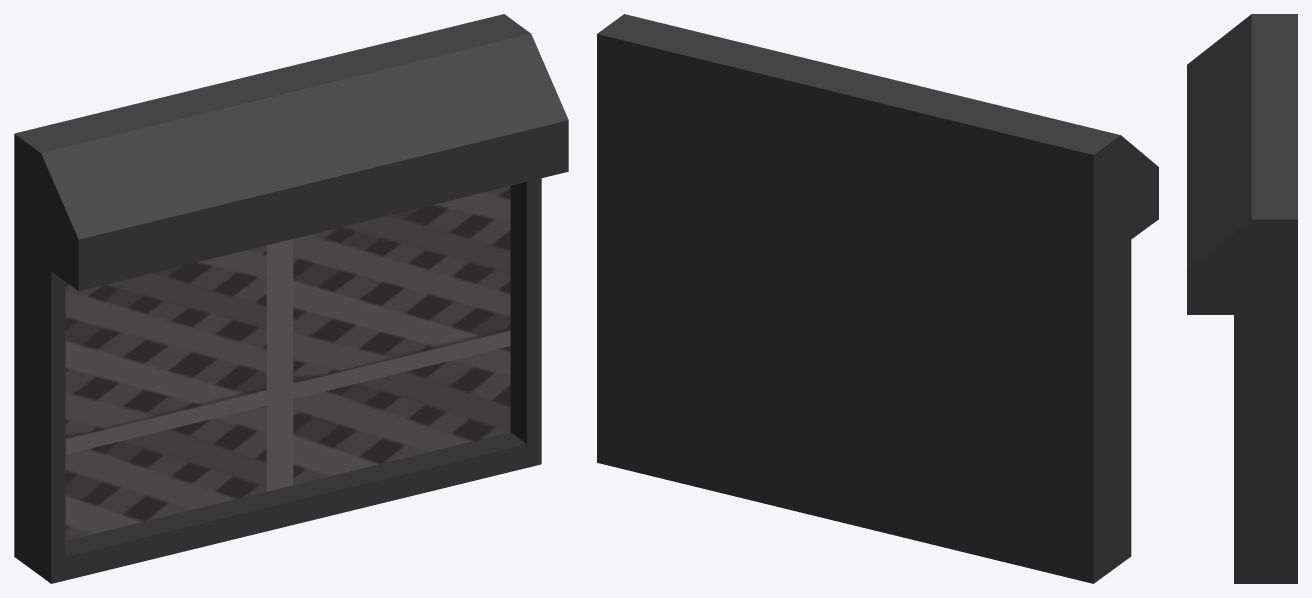
Rendered from Window_D11.fbx.
3 renders of one model, left to right at view 1: azimuth 30°, elevation 25°; view 2: azimuth 150°, elevation 25°; view 3: azimuth 270°, elevation 25°, orthographic. The views are drawn at different scales.
Visible parts, largest first — view 1: Window_D11; view 2: Window_D11; view 3: Window_D11.
Boxes of the visible parts, x1,y1,x2,y2 form: Window_D11: (14, 14, 568, 583); Window_D11: (597, 14, 1158, 583); Window_D11: (1187, 14, 1297, 583).
Size of the model in its own units: 134 by 111 by 30.53.
Materials: 1 (1 with a texture image).
